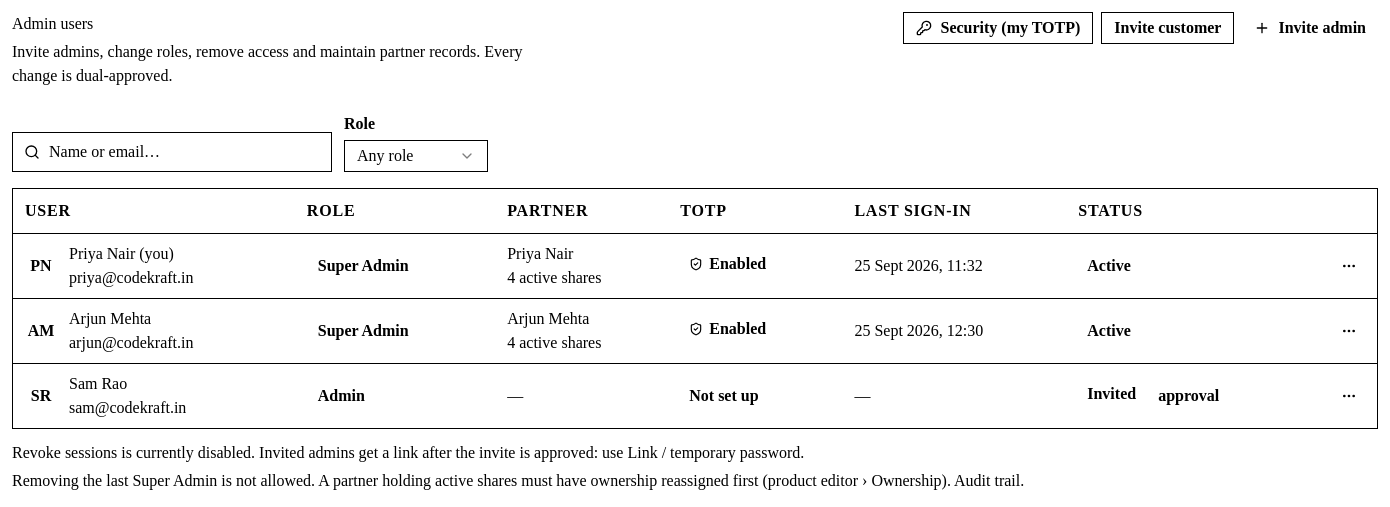
Test: AdminUsers search and role filter (BUG-019) › narrows the table by name/email search
expect the text "Sam Rao" is shown: met, box left=69, top=374, right=127, bottom=392
expect the text "priya@codekraft.in" is shown: met, box left=69, top=266, right=194, bottom=290
Type "sam" into the search field with placeholder "Name or email…" at (172, 152), box left=12, top=132, right=332, bottom=172
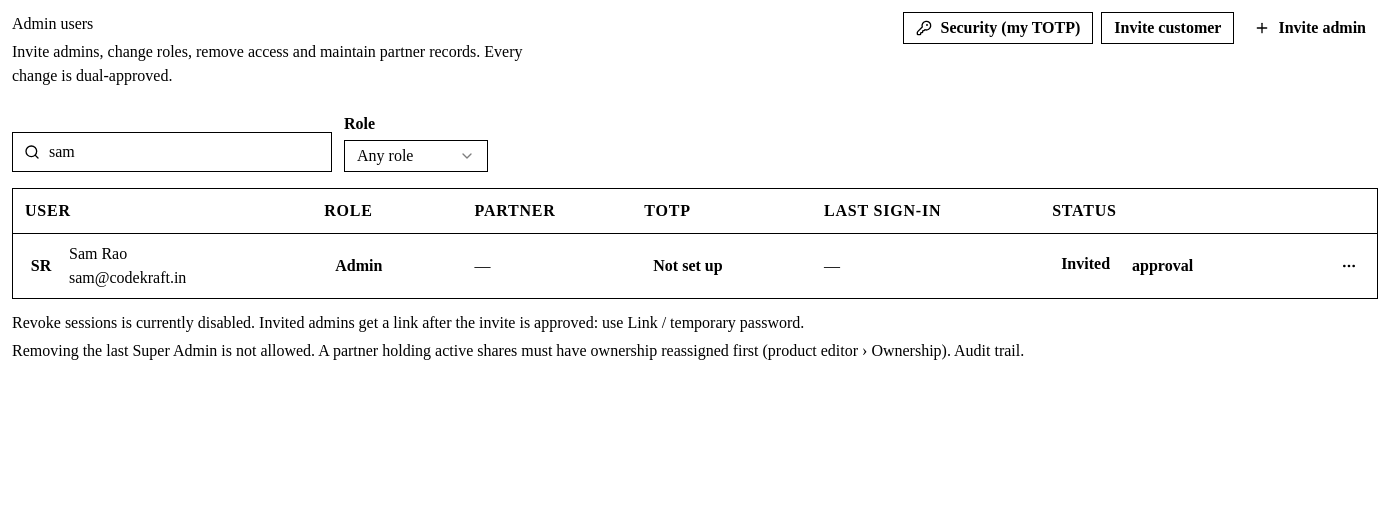
expect the text "Sam Rao" is shown: met, box left=69, top=244, right=127, bottom=262
expect the text "priya@codekraft.in" is gone: met
